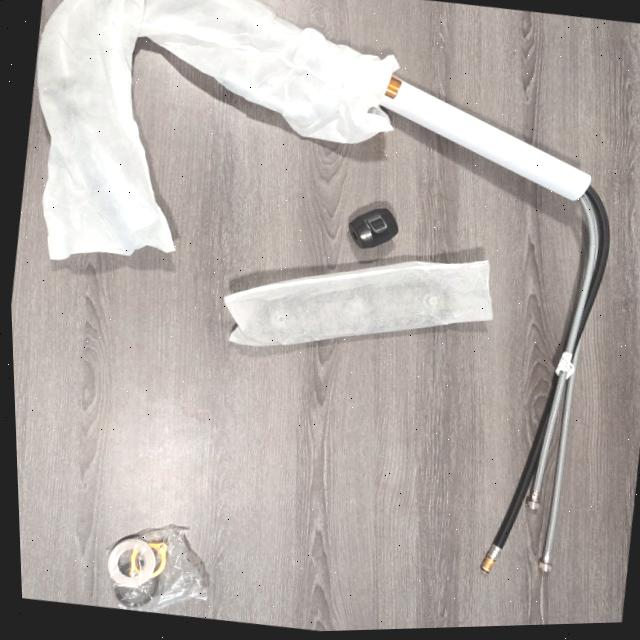1c: (37, 0, 608, 572)
4c: (224, 260, 491, 345)
5: (347, 207, 397, 248)
6: (107, 525, 207, 612)
